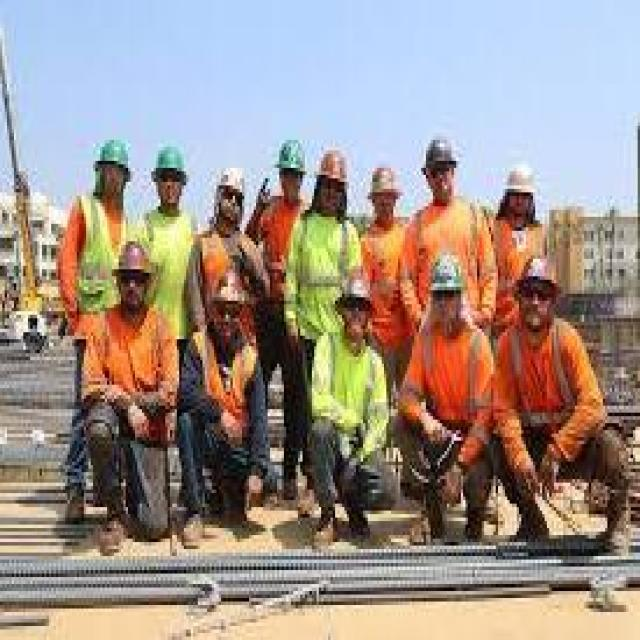Reflective-Jacket: (493, 318, 608, 476), (180, 328, 280, 486), (310, 333, 398, 493), (91, 304, 184, 444), (410, 315, 496, 458), (410, 207, 503, 339), (289, 211, 370, 356), (58, 192, 128, 346), (193, 218, 274, 328), (260, 200, 318, 344), (356, 225, 419, 351), (137, 209, 201, 325), (488, 214, 548, 316)
Safety-Helmet: (510, 245, 570, 304), (86, 130, 137, 186), (424, 248, 470, 304), (110, 234, 160, 284), (147, 133, 193, 185), (498, 154, 542, 206), (419, 126, 463, 175), (272, 133, 310, 182), (363, 161, 405, 203), (314, 143, 352, 189), (212, 158, 249, 200)
